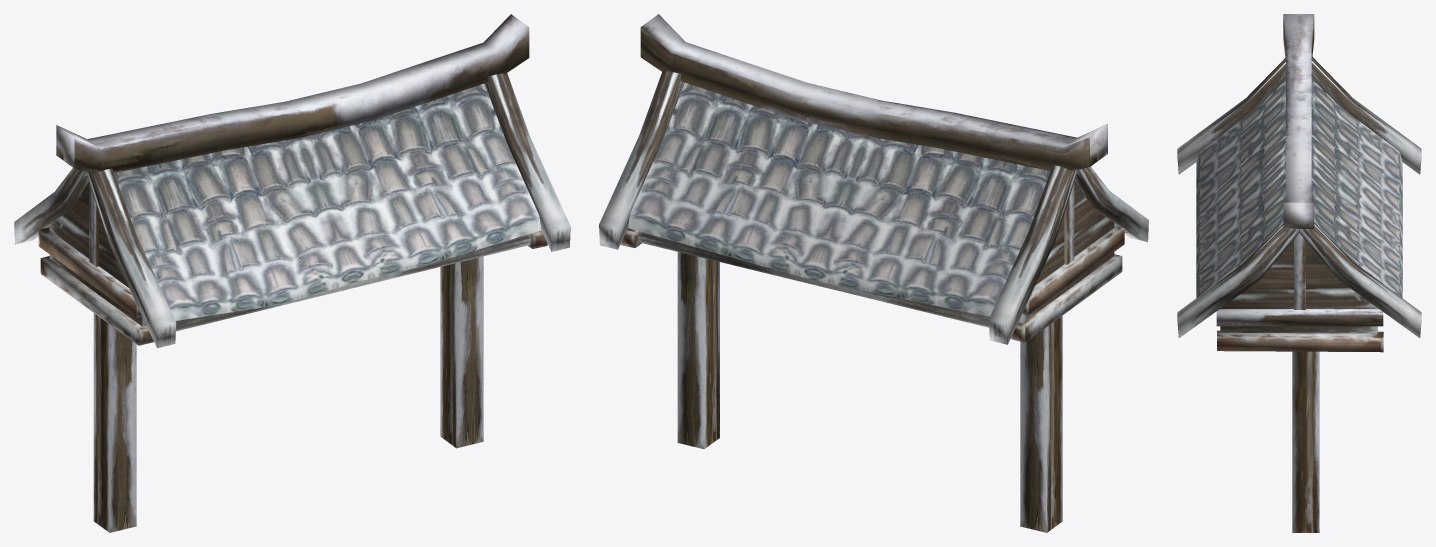
File: SM_House_06.fbx
The picture shows the model from 3 angles, left to right: view 1: azimuth 30°, elevation 25°; view 2: azimuth 150°, elevation 25°; view 3: azimuth 270°, elevation 25°; orthographic projection. The views are drawn at different scales.
Visible parts, largest first — view 1: SM_House_06; view 2: SM_House_06; view 3: SM_House_06.
Boxes of the visible parts, x1,y1,x2,y2 form: SM_House_06: [14, 14, 570, 532]; SM_House_06: [599, 14, 1148, 532]; SM_House_06: [1177, 14, 1421, 532].
Bounding box in the file's own units: 3.69 × 3.17 × 2.02.
